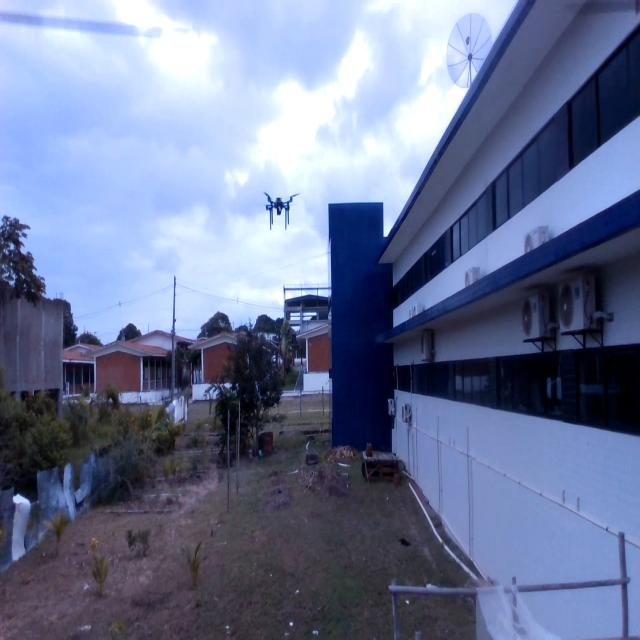-uav-: (251, 185, 304, 233)
